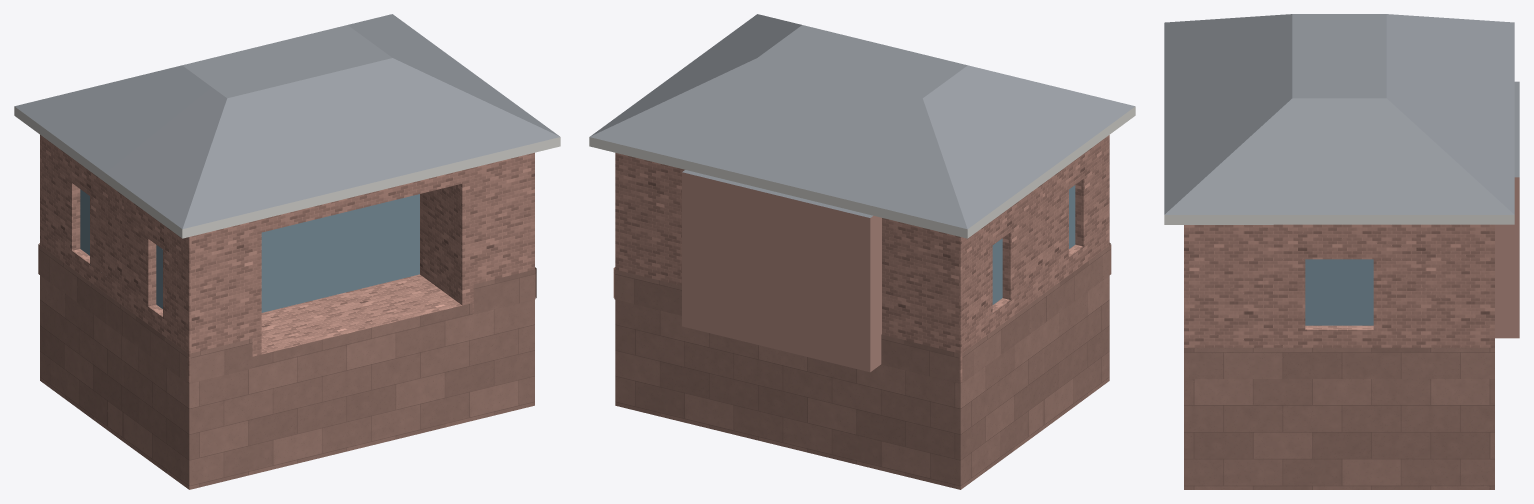
3 renders of one model, left to right at view 1: azimuth 30°, elevation 25°; view 2: azimuth 150°, elevation 25°; view 3: azimuth 270°, elevation 25°, orthographic. The views are drawn at different scales.
Parts seen in each view (by area): view 1: kaistPharmacyE21__base, kaistPharmacyE21__roofAccent, kaistPharmacyE21__wall, kaistPharmacyE21__glass, kaistPharmacyE21__trim; view 2: kaistPharmacyE21__roofAccent, kaistPharmacyE21__base, kaistPharmacyE21__wall, kaistPharmacyE21__wall2, kaistPharmacyE21__trim, kaistPharmacyE21__glass, kaistPharmacyE21__roof; view 3: kaistPharmacyE21__roofAccent, kaistPharmacyE21__base, kaistPharmacyE21__wall, kaistPharmacyE21__glass, kaistPharmacyE21__trim, kaistPharmacyE21__wall2, kaistPharmacyE21__roof.
Part boxes in pixels (left/top/right/bottom): kaistPharmacyE21__base: left=38, top=243, right=536, bottom=489; kaistPharmacyE21__roofAccent: left=14, top=14, right=559, bottom=229; kaistPharmacyE21__wall: left=40, top=135, right=534, bottom=382; kaistPharmacyE21__glass: left=80, top=189, right=419, bottom=312; kaistPharmacyE21__trim: left=14, top=106, right=560, bottom=238; kaistPharmacyE21__roofAccent: left=590, top=14, right=1134, bottom=229; kaistPharmacyE21__base: left=613, top=243, right=1111, bottom=489; kaistPharmacyE21__wall: left=615, top=135, right=1109, bottom=382; kaistPharmacyE21__wall2: left=682, top=172, right=881, bottom=372; kaistPharmacyE21__trim: left=589, top=106, right=1135, bottom=238; kaistPharmacyE21__glass: left=992, top=185, right=1075, bottom=304; kaistPharmacyE21__roof: left=682, top=170, right=872, bottom=217; kaistPharmacyE21__roofAccent: left=1164, top=14, right=1514, bottom=214; kaistPharmacyE21__base: left=1184, top=347, right=1494, bottom=489; kaistPharmacyE21__wall: left=1184, top=224, right=1494, bottom=347; kaistPharmacyE21__glass: left=1305, top=259, right=1373, bottom=325; kaistPharmacyE21__trim: left=1164, top=215, right=1514, bottom=224; kaistPharmacyE21__wall2: left=1495, top=177, right=1519, bottom=338; kaistPharmacyE21__roof: left=1514, top=81, right=1519, bottom=177.
Size of the model in its own units: 9.24 by 7.74 by 7.21.
Materials: 8 (2 with a texture image).
